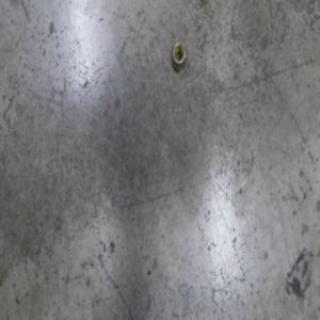Nuttrack_idkeyframe: (171, 40, 186, 73)
